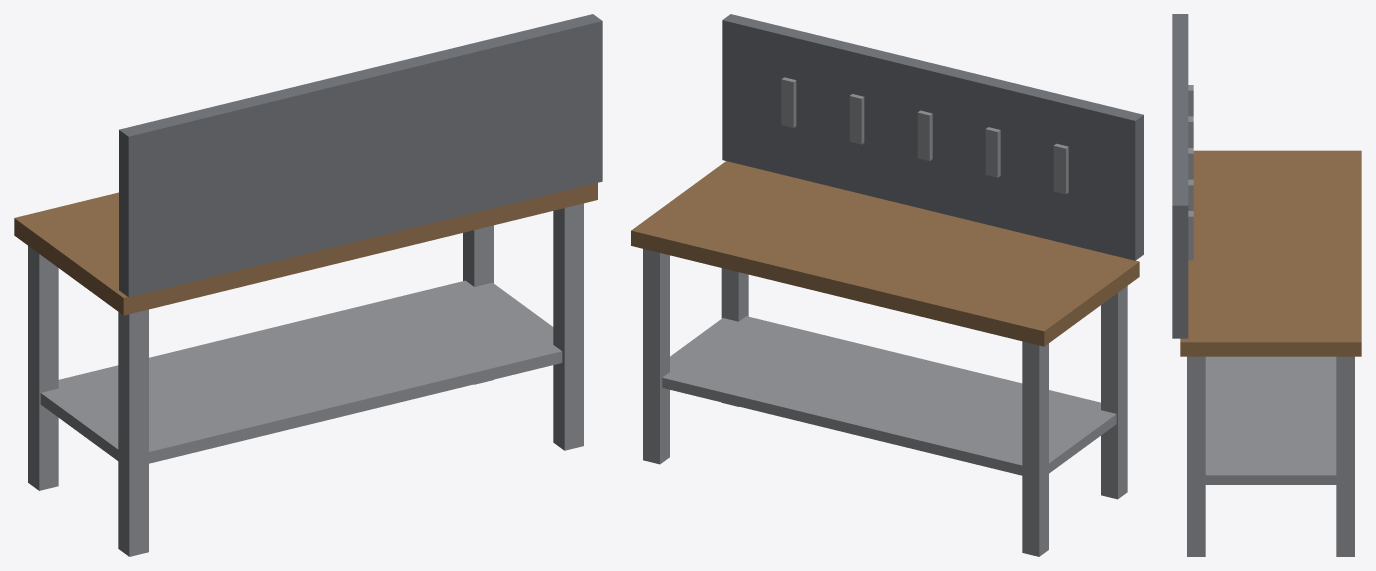
Rendered from workbench.glb.
3 renders of one model, left to right at view 1: azimuth 30°, elevation 25°; view 2: azimuth 150°, elevation 25°; view 3: azimuth 270°, elevation 25°, orthographic. The views are drawn at different scales.
Parts seen in each view (by area): view 1: workbench; view 2: workbench; view 3: workbench.
Part boxes in pixels (x1,y1,x2,y2): workbench: [14, 14, 602, 556]; workbench: [631, 14, 1143, 556]; workbench: [1172, 14, 1361, 556].
Size of the model in its own units: 1.7 by 1.47 by 0.71.
